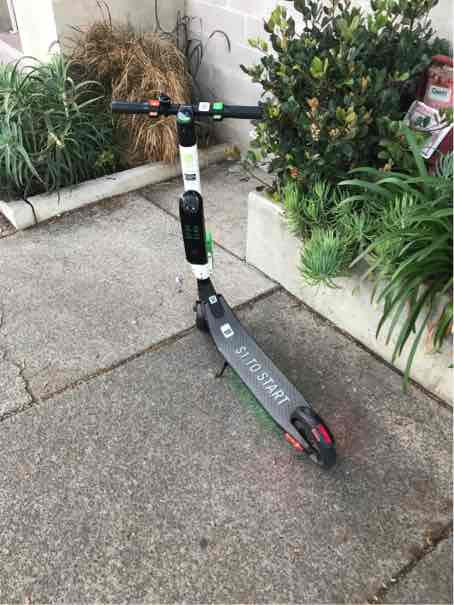scooter: (109, 90, 349, 472)
